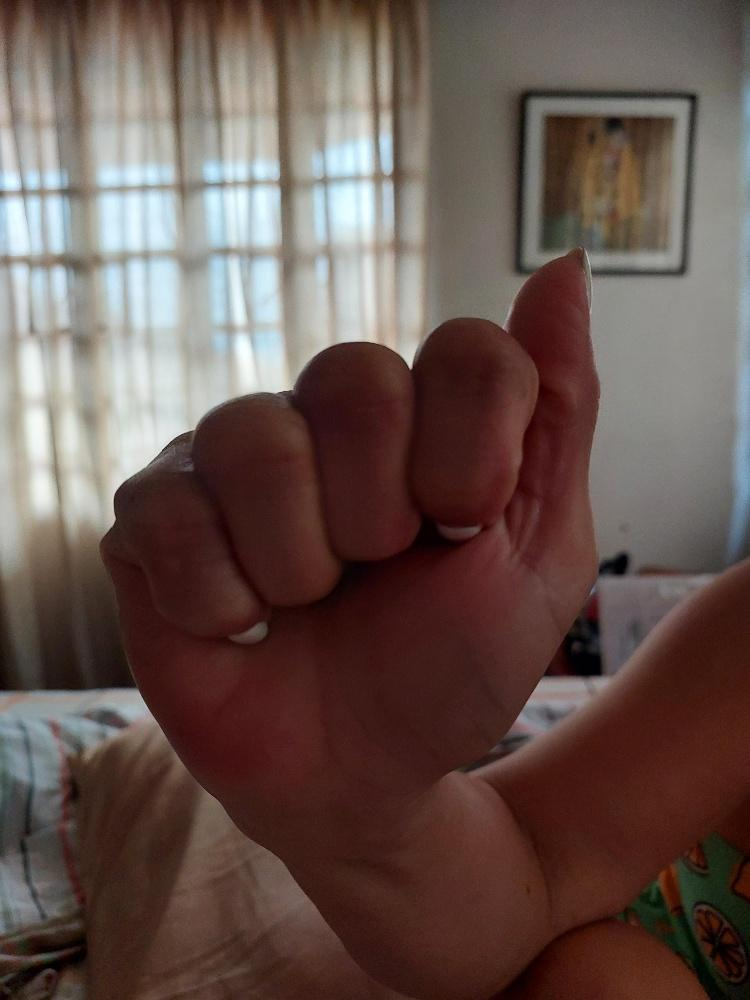a: (93, 235, 605, 816)
